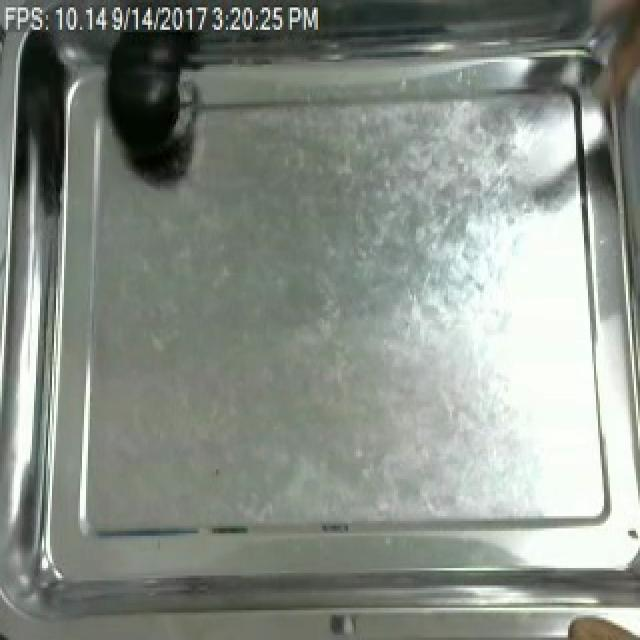Fruit: (554, 605, 640, 640)
